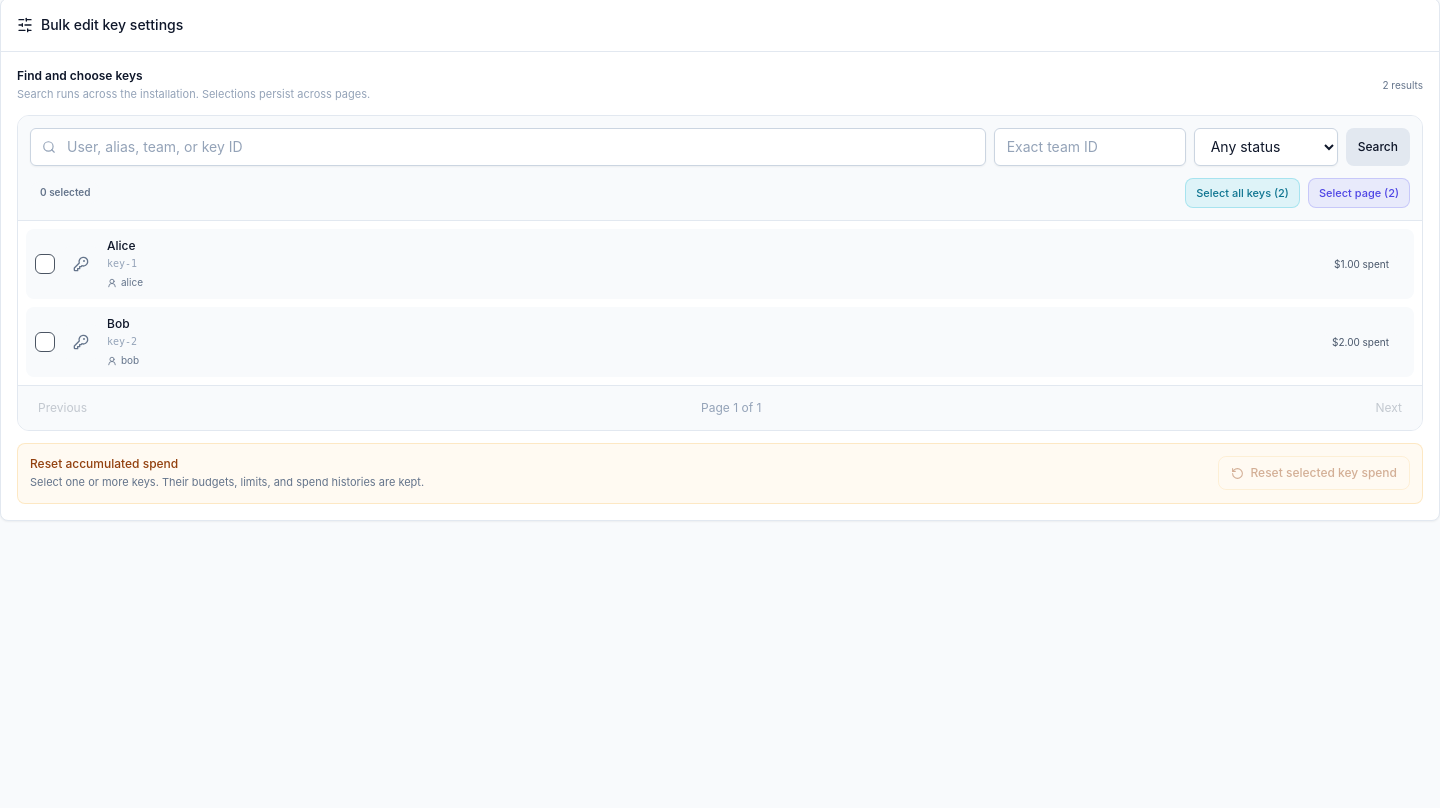
Test: BulkKeyEditor › does not submit saved values just because a key was selected
The image size is (1440, 808).
Click the checkbox named "Select Alice": [81, 264] box [35,230,1397,298]
(page scrolled)
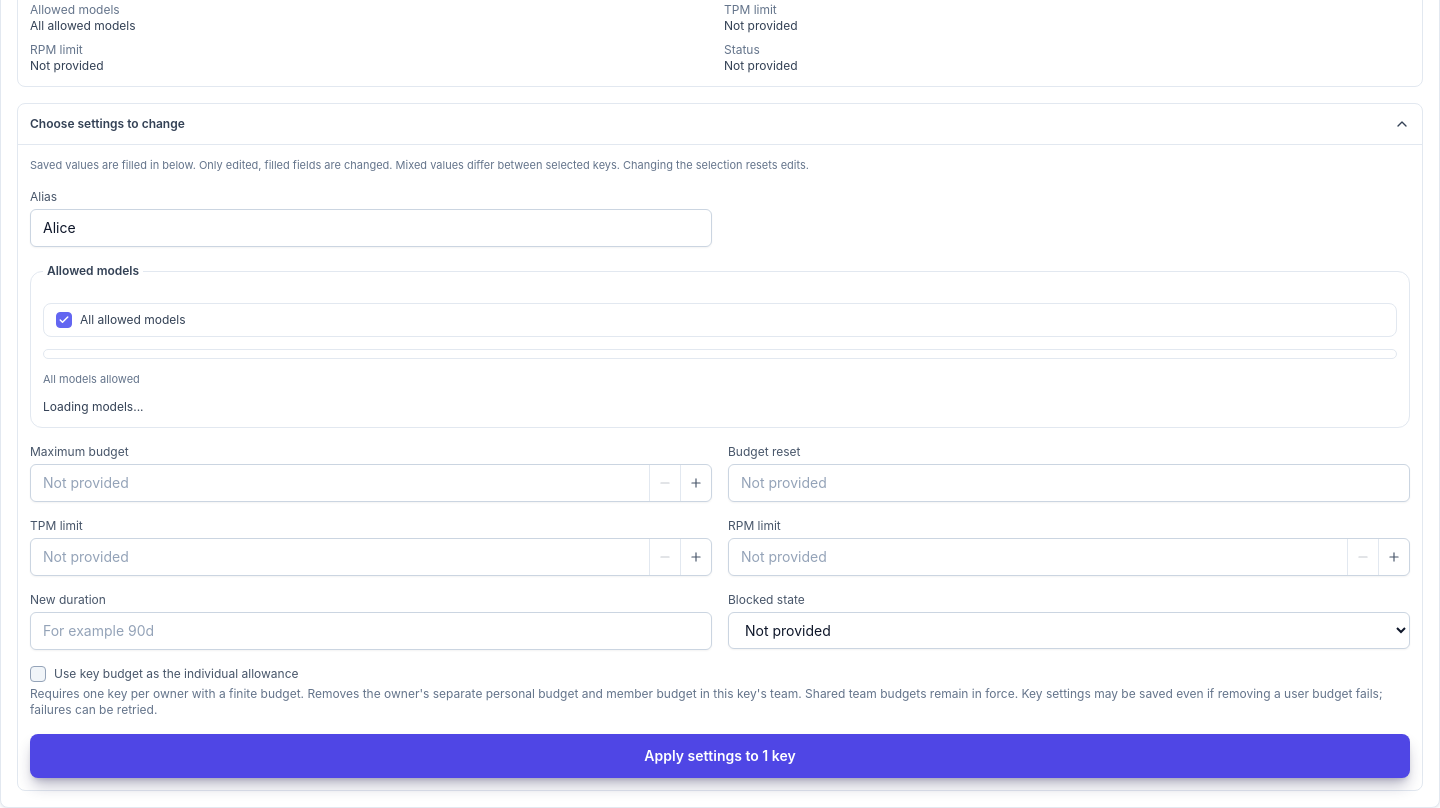
Click the button "Apply settings to 1 key": [720, 756] box [30,734,1410,778]
(page scrolled)
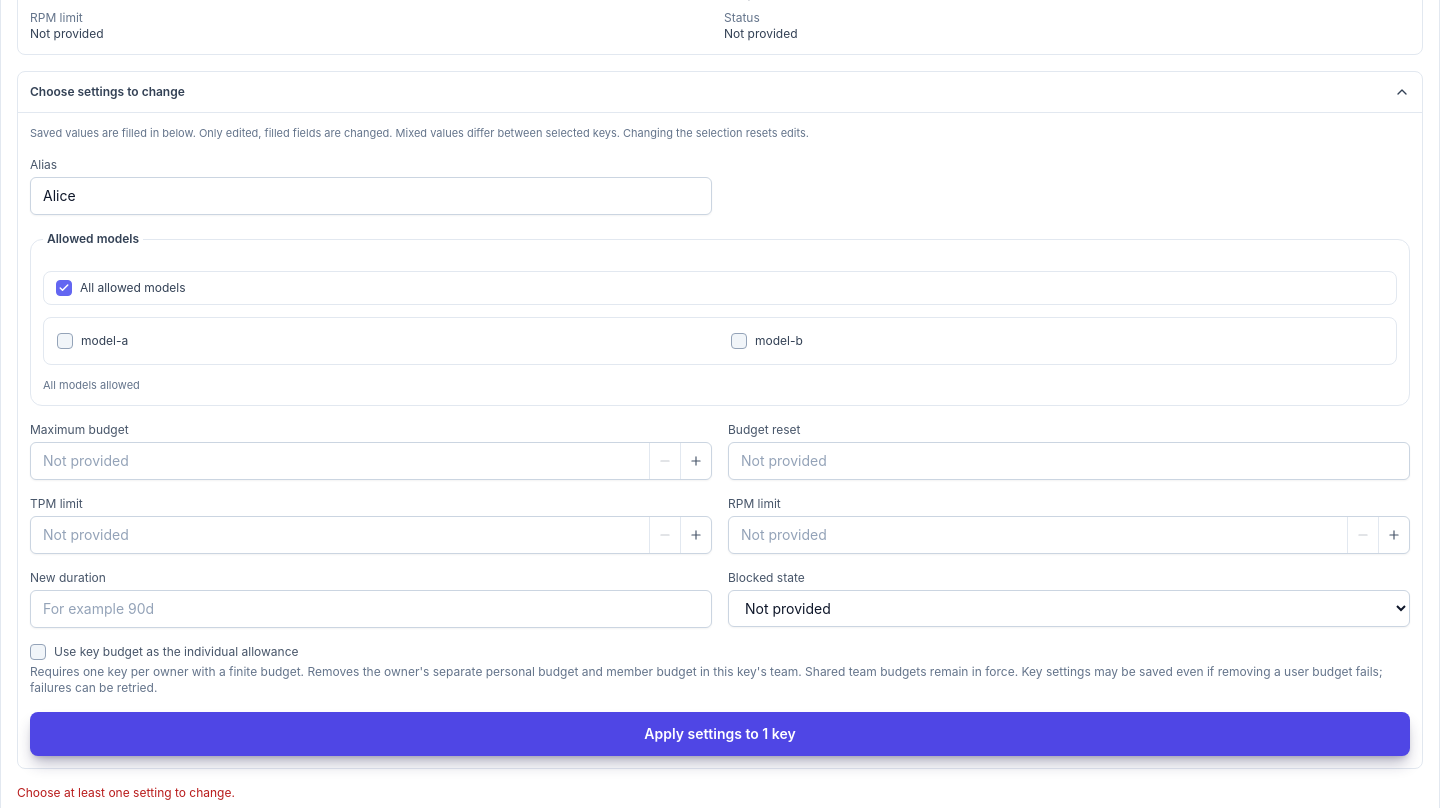
Expected: the text "Choose at least one setting to change." is shown, [17,785,235,800]
